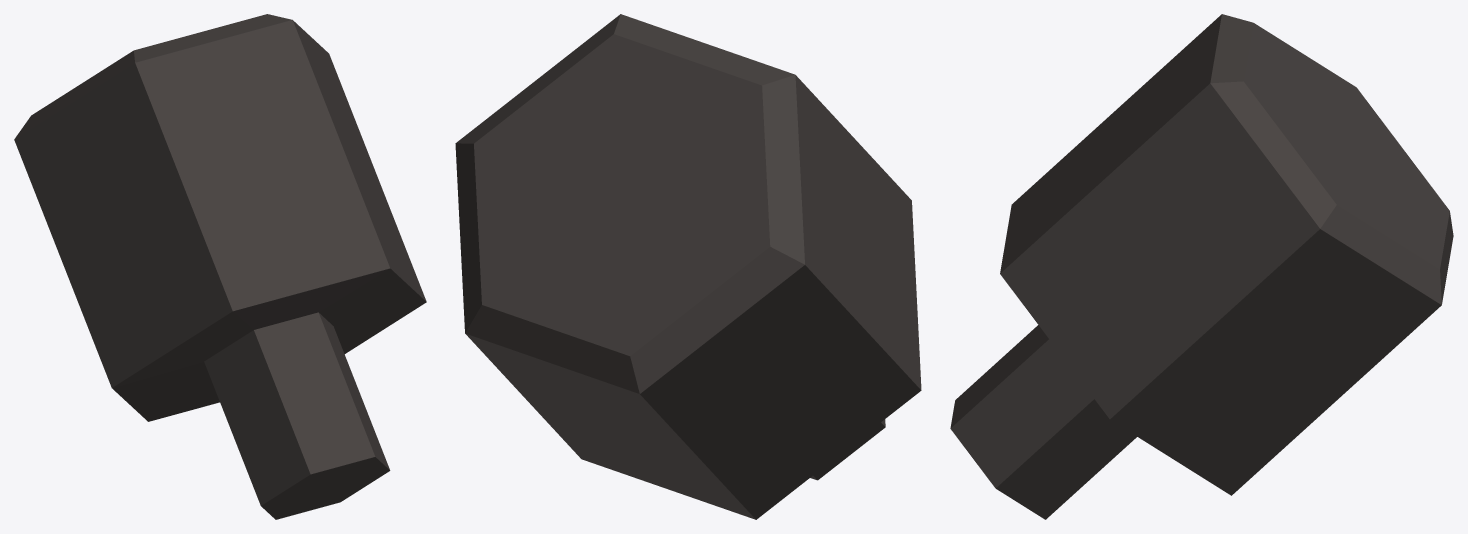
The model's file is Pistol6_06_2.fbx.
3 renders of one model, left to right at view 1: azimuth 30°, elevation 25°; view 2: azimuth 150°, elevation 25°; view 3: azimuth 270°, elevation 25°, orthographic. The views are drawn at different scales.
Visible parts, largest first — view 1: Pistol6_06_2; view 2: Pistol6_06_2; view 3: Pistol6_06_2.
Part boxes in pixels (x1,y1,x2,y2): Pistol6_06_2: [14, 14, 426, 519]; Pistol6_06_2: [455, 14, 921, 519]; Pistol6_06_2: [950, 14, 1453, 519].
Size of the model in its own units: 0.00979 by 0.013 by 0.013.
